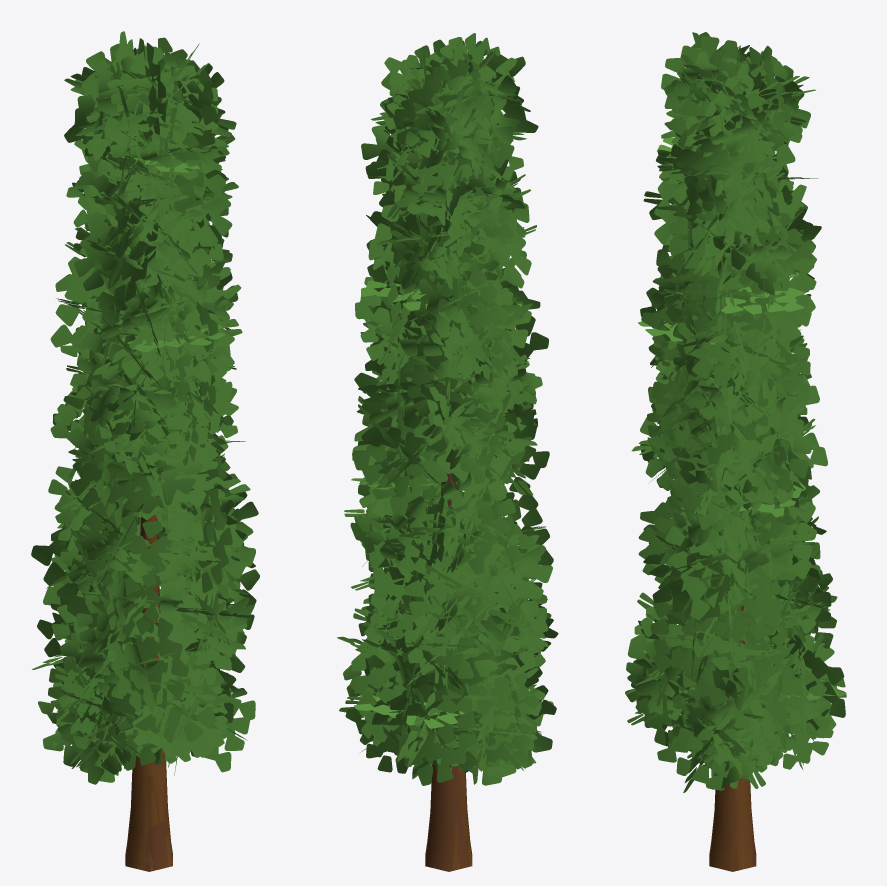
File: STColumnar3.glb
The picture shows the model from 3 angles, left to right: view 1: azimuth 30°, elevation 25°; view 2: azimuth 150°, elevation 25°; view 3: azimuth 270°, elevation 25°; orthographic projection.
Visible parts, largest first — view 1: STColumnar3_Leaves, STColumnar3_Trunk; view 2: STColumnar3_Leaves, STColumnar3_Trunk; view 3: STColumnar3_Leaves, STColumnar3_Trunk.
Part boxes in pixels (x1=…): STColumnar3_Leaves: x1=31, y1=31, x2=259, y2=784; STColumnar3_Trunk: x1=125, y1=496, x2=172, y2=871; STColumnar3_Leaves: x1=337, y1=33, x2=558, y2=785; STColumnar3_Trunk: x1=425, y1=473, x2=472, y2=871; STColumnar3_Leaves: x1=625, y1=32, x2=846, y2=792; STColumnar3_Trunk: x1=709, y1=591, x2=756, y2=871.
Bounding box in the file's own units: 4.25 × 14.51 × 4.19.
Materials: 2 (2 with a texture image).
